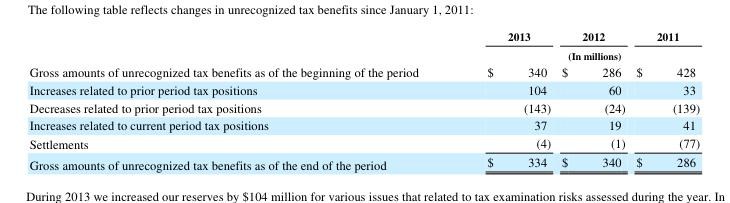table: (28, 28, 699, 172)
table column: (28, 28, 452, 172), (452, 28, 555, 172), (555, 28, 630, 172), (630, 28, 699, 172)
table column header: (28, 28, 699, 62)
table row: (28, 151, 699, 172), (28, 28, 699, 46), (28, 62, 699, 80), (28, 97, 699, 115), (28, 115, 699, 133), (28, 133, 699, 151), (28, 80, 699, 97), (28, 46, 699, 62)
table spanning cell: (452, 46, 699, 62)
